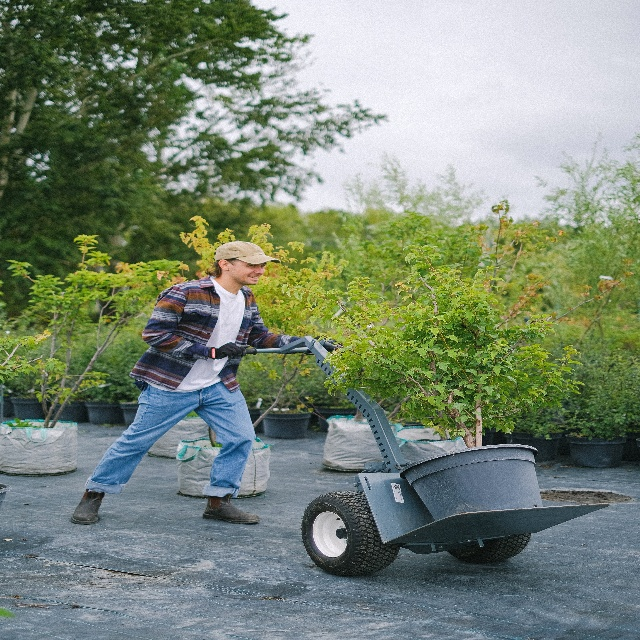Guantes: (208, 340, 248, 360), (315, 333, 343, 352)
